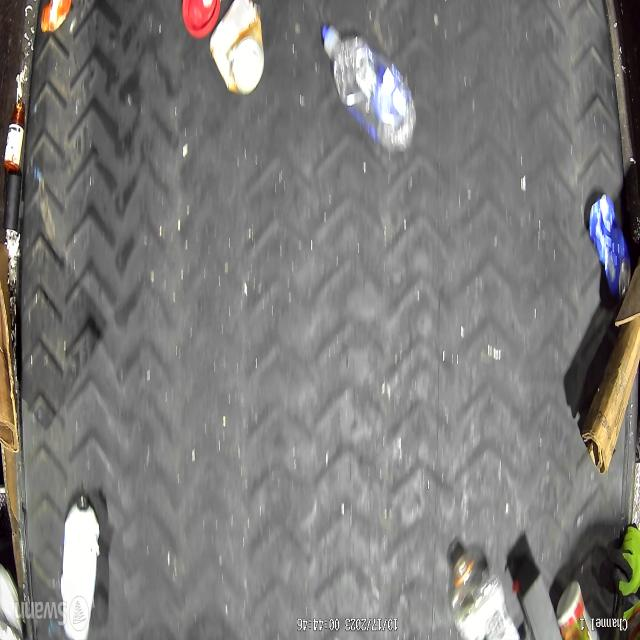can: (209, 0, 267, 97), (587, 189, 633, 298)
plastic_bottle: (322, 26, 417, 152)
